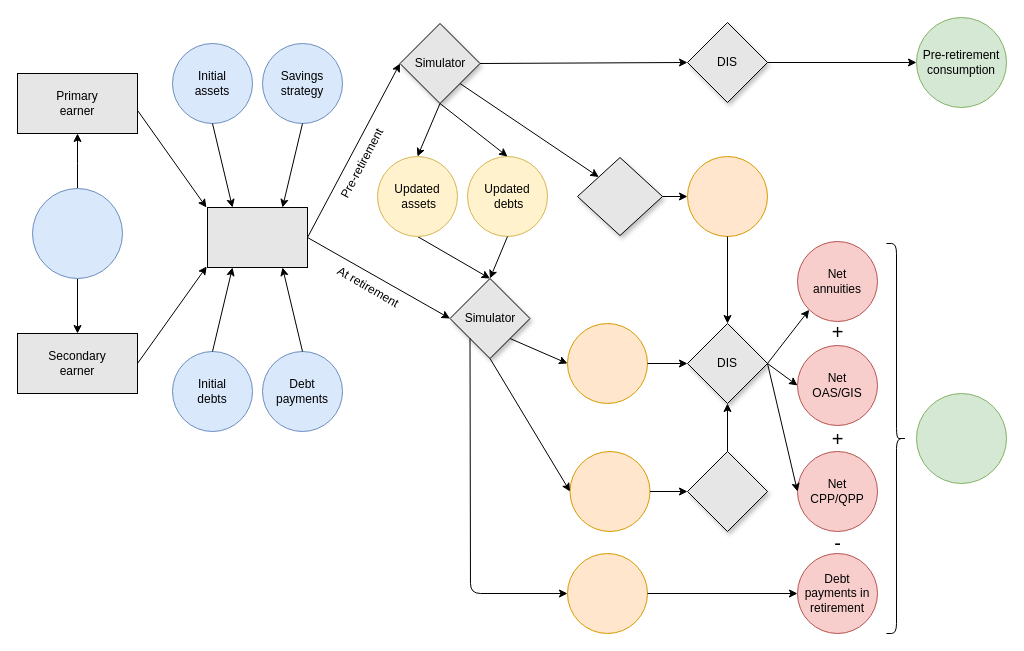
Image size: 1024x651. Some labels were removed from this diagram. The centre of each missing label's shape, as x and y in pixels:
Annuity calculator: pixel 728 492
Consumption in r etirement: pixel 961 438
CPP calculator: pixel 620 197
CPP/QPP benefits: pixel 727 196
DB RPP benefits: pixel 607 363
Debts in retirement: pixel 607 593
Earnings, demographics, previous DB RPPs: pixel 77 233
Final assets (includes DC RPPs): pixel 609 491
Household: pixel 257 237
